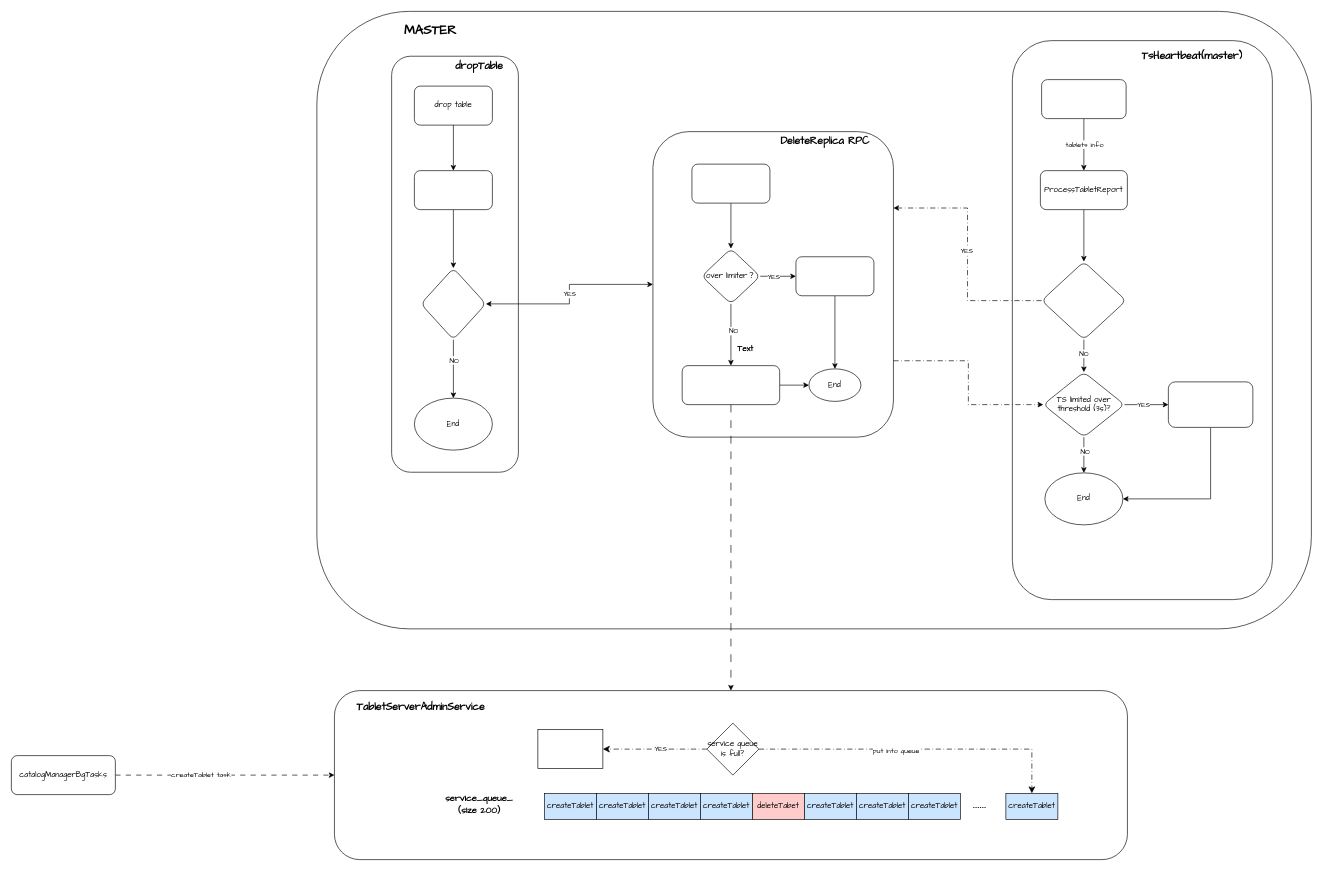
Some shapes in this 1323 by 871 pixel diagram are drawn without their labels. The shapes that lost their labels are listed below. From the top down, each one's box as (x1, y1, x2, y2) in pixels, then its label:
(1041, 79, 1126, 119): tserver heartbeat report
(414, 170, 492, 210): mark table and all tablet deleted
(691, 163, 770, 203): RateLimiter （default size 300）
(795, 256, 874, 296): record TS is limited
(420, 267, 486, 340): there is avliable tabelt ?
(1041, 261, 1126, 340): tablet or table is deleted?
(682, 365, 780, 405): send DeleteTablet task
(1168, 381, 1253, 427): ask TS report full next time && remove TS limiter
(537, 729, 603, 769): drop task
